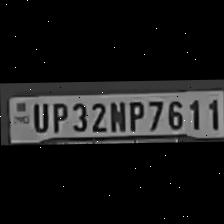1: (202, 96, 220, 130), (184, 98, 202, 130)
2: (87, 99, 107, 132)
3: (68, 100, 88, 132)
6: (162, 97, 184, 128)
7: (144, 97, 162, 130)
N: (106, 99, 126, 131)
P: (125, 97, 145, 130), (48, 100, 68, 132)
U: (28, 100, 48, 131)
